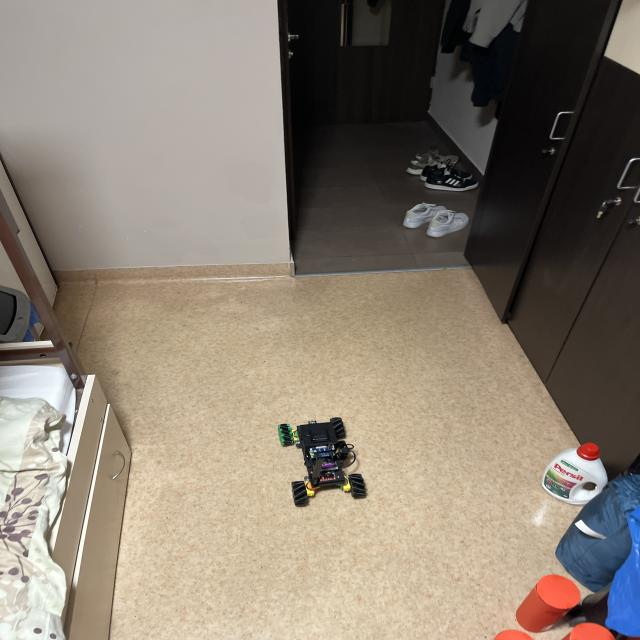robot: (278, 417, 366, 506)
